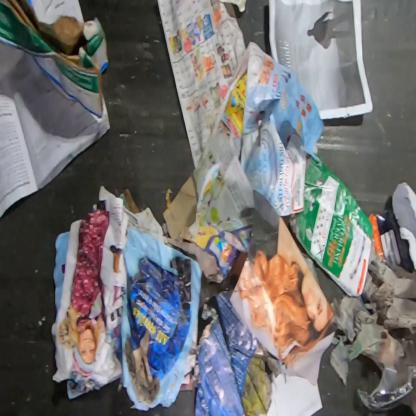cardboard: (0, 0, 109, 126), (288, 151, 374, 297), (194, 289, 292, 415), (368, 210, 415, 274), (162, 175, 198, 243)
rigid_plastic: (357, 336, 415, 415)
